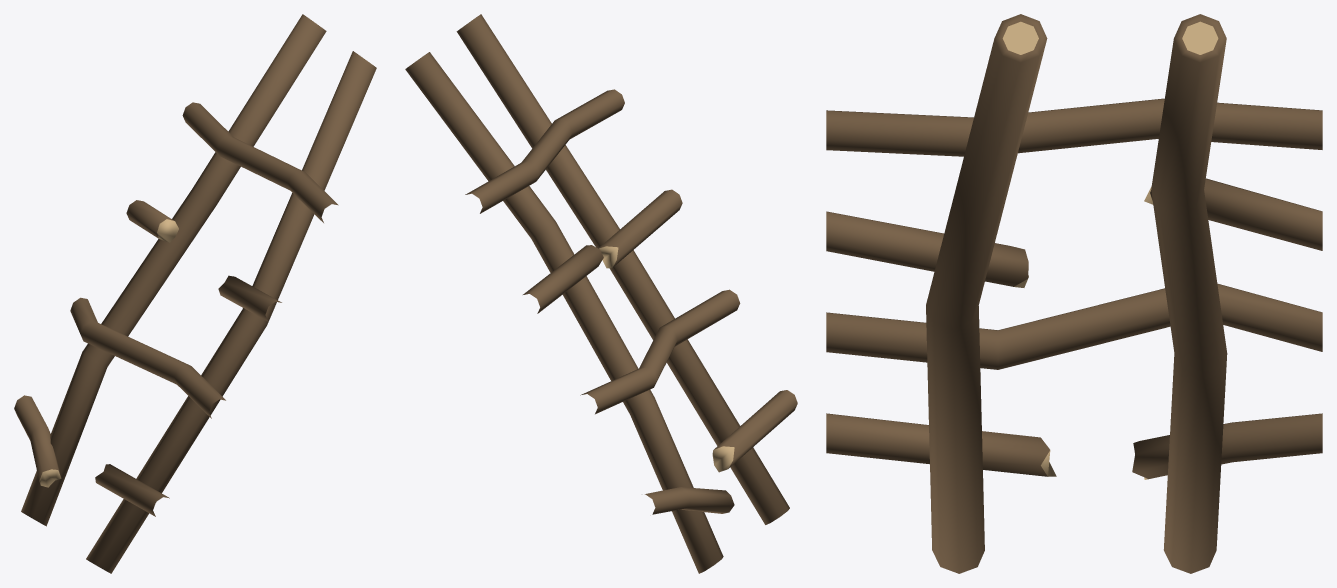
File: rpgpp_av_roof_support_01_6x5x3_half_a.gltf
The picture shows the model from 3 angles, left to right: view 1: azimuth 30°, elevation 25°; view 2: azimuth 150°, elevation 25°; view 3: azimuth 270°, elevation 25°; orthographic projection. The views are drawn at different scales.
Visible parts, largest first — view 1: rpgpp_av_roof_support_01_6x5x3_half_a; view 2: rpgpp_av_roof_support_01_6x5x3_half_a; view 3: rpgpp_av_roof_support_01_6x5x3_half_a.
Boxes of the visible parts, x1,y1,x2,y2 form: rpgpp_av_roof_support_01_6x5x3_half_a: (14, 14, 376, 573); rpgpp_av_roof_support_01_6x5x3_half_a: (405, 14, 797, 573); rpgpp_av_roof_support_01_6x5x3_half_a: (826, 14, 1322, 573).
Size of the model in its own units: 0.0378 by 0.0527 by 0.03.
1 material, 1 textured.
